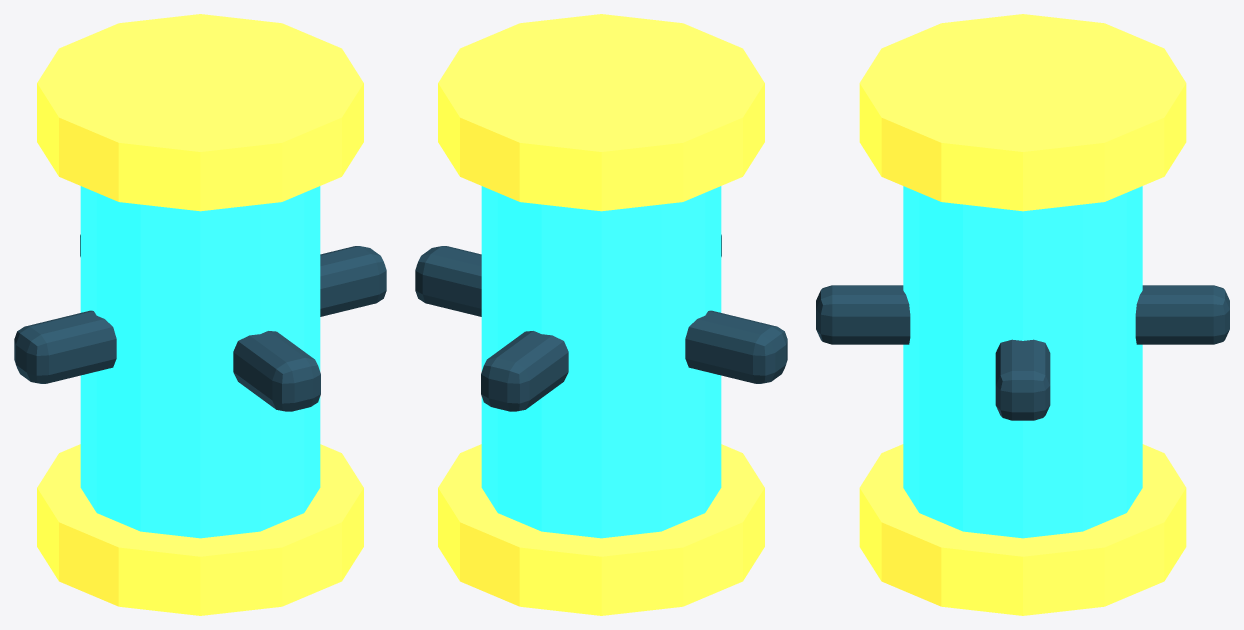
The model's file is energy_cell.glb.
The picture shows the model from 3 angles, left to right: view 1: azimuth 30°, elevation 25°; view 2: azimuth 150°, elevation 25°; view 3: azimuth 270°, elevation 25°; orthographic projection.
Parts seen in each view (by area): view 1: Core, Top, Base, Frame, Frame.001; view 2: Core, Top, Base, Frame, Frame.001; view 3: Core, Top, Base, Frame.001, Frame.
Part boxes in pixels (left/top/right/bottom): Core: left=80, top=186, right=320, bottom=538; Top: left=37, top=14, right=363, bottom=211; Base: left=37, top=444, right=363, bottom=615; Frame: left=14, top=246, right=386, bottom=383; Frame.001: left=80, top=234, right=320, bottom=411; Core: left=481, top=186, right=721, bottom=538; Top: left=438, top=14, right=764, bottom=211; Base: left=438, top=444, right=764, bottom=615; Frame: left=415, top=246, right=787, bottom=383; Frame.001: left=481, top=234, right=721, bottom=411; Core: left=903, top=186, right=1142, bottom=538; Top: left=859, top=14, right=1186, bottom=211; Base: left=859, top=444, right=1186, bottom=615; Frame.001: left=816, top=285, right=1229, bottom=344; Frame: left=995, top=339, right=1050, bottom=420.
Bounding box in the file's own units: 0.76 × 0.94 × 0.76.
